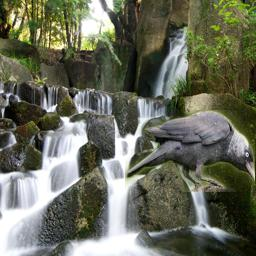Crow: (125, 110, 255, 192)
